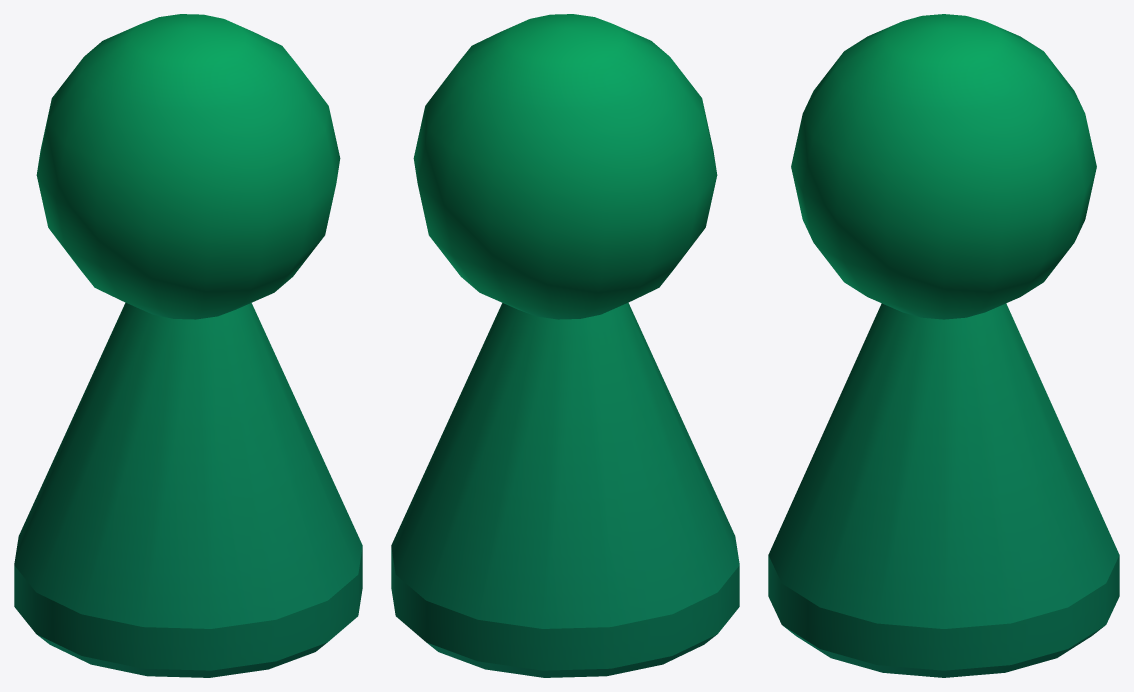
The model's file is pawn_A_green.obj.
3 renders of one model, left to right at view 1: azimuth 30°, elevation 25°; view 2: azimuth 150°, elevation 25°; view 3: azimuth 270°, elevation 25°, orthographic.
Visible parts, largest first — view 1: pawn_A_green; view 2: pawn_A_green; view 3: pawn_A_green.
Boxes of the visible parts, x1,y1,x2,y2 form: pawn_A_green: [14, 14, 362, 677]; pawn_A_green: [391, 14, 739, 677]; pawn_A_green: [768, 14, 1119, 677].
Size of the model in its own units: 0.5 by 0.9146 by 0.5.
Materials: 1 (1 with a texture image).
